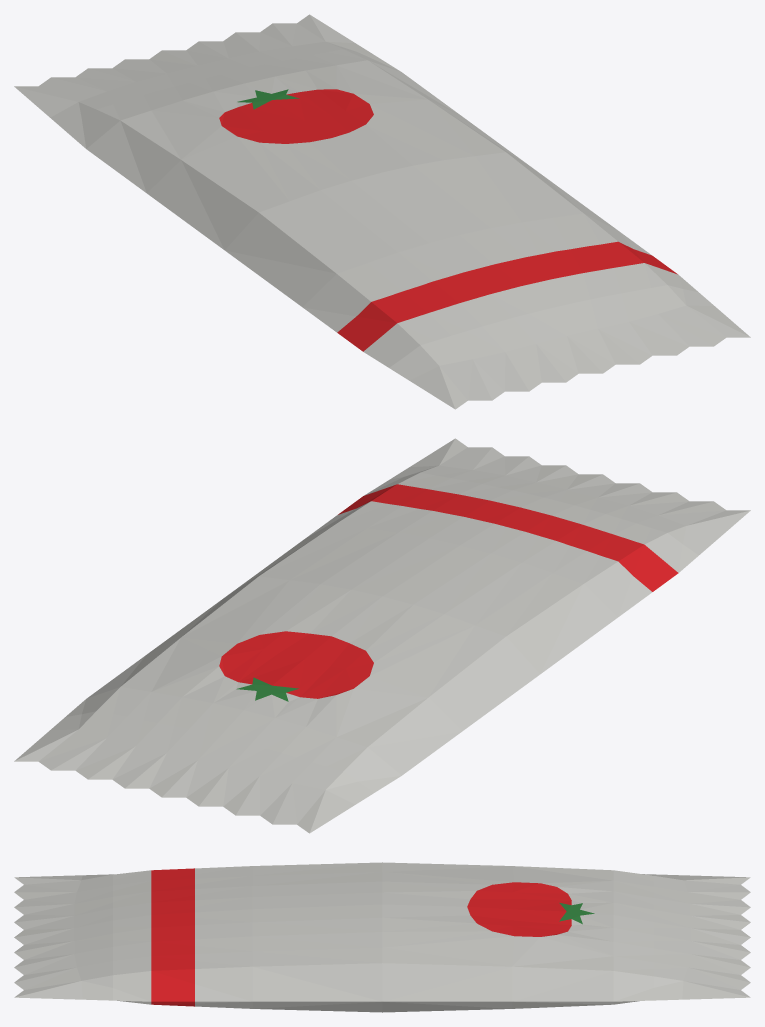
Rendered from Ketchup_Pack.fbx.
The picture shows the model from 3 angles, top to bottom: view 1: azimuth 30°, elevation 25°; view 2: azimuth 150°, elevation 25°; view 3: azimuth 270°, elevation 25°; orthographic projection. The views are drawn at different scales.
Parts seen in each view (by area): view 1: Ketchup_Pack; view 2: Ketchup_Pack; view 3: Ketchup_Pack.
Part boxes in pixels (box(x1,y1,x2,y2)): Ketchup_Pack: box(14, 14, 750, 409); Ketchup_Pack: box(14, 438, 750, 833); Ketchup_Pack: box(14, 862, 750, 1012).
Bounding box in the file's own units: 3.09 × 0.74 × 7.49.
